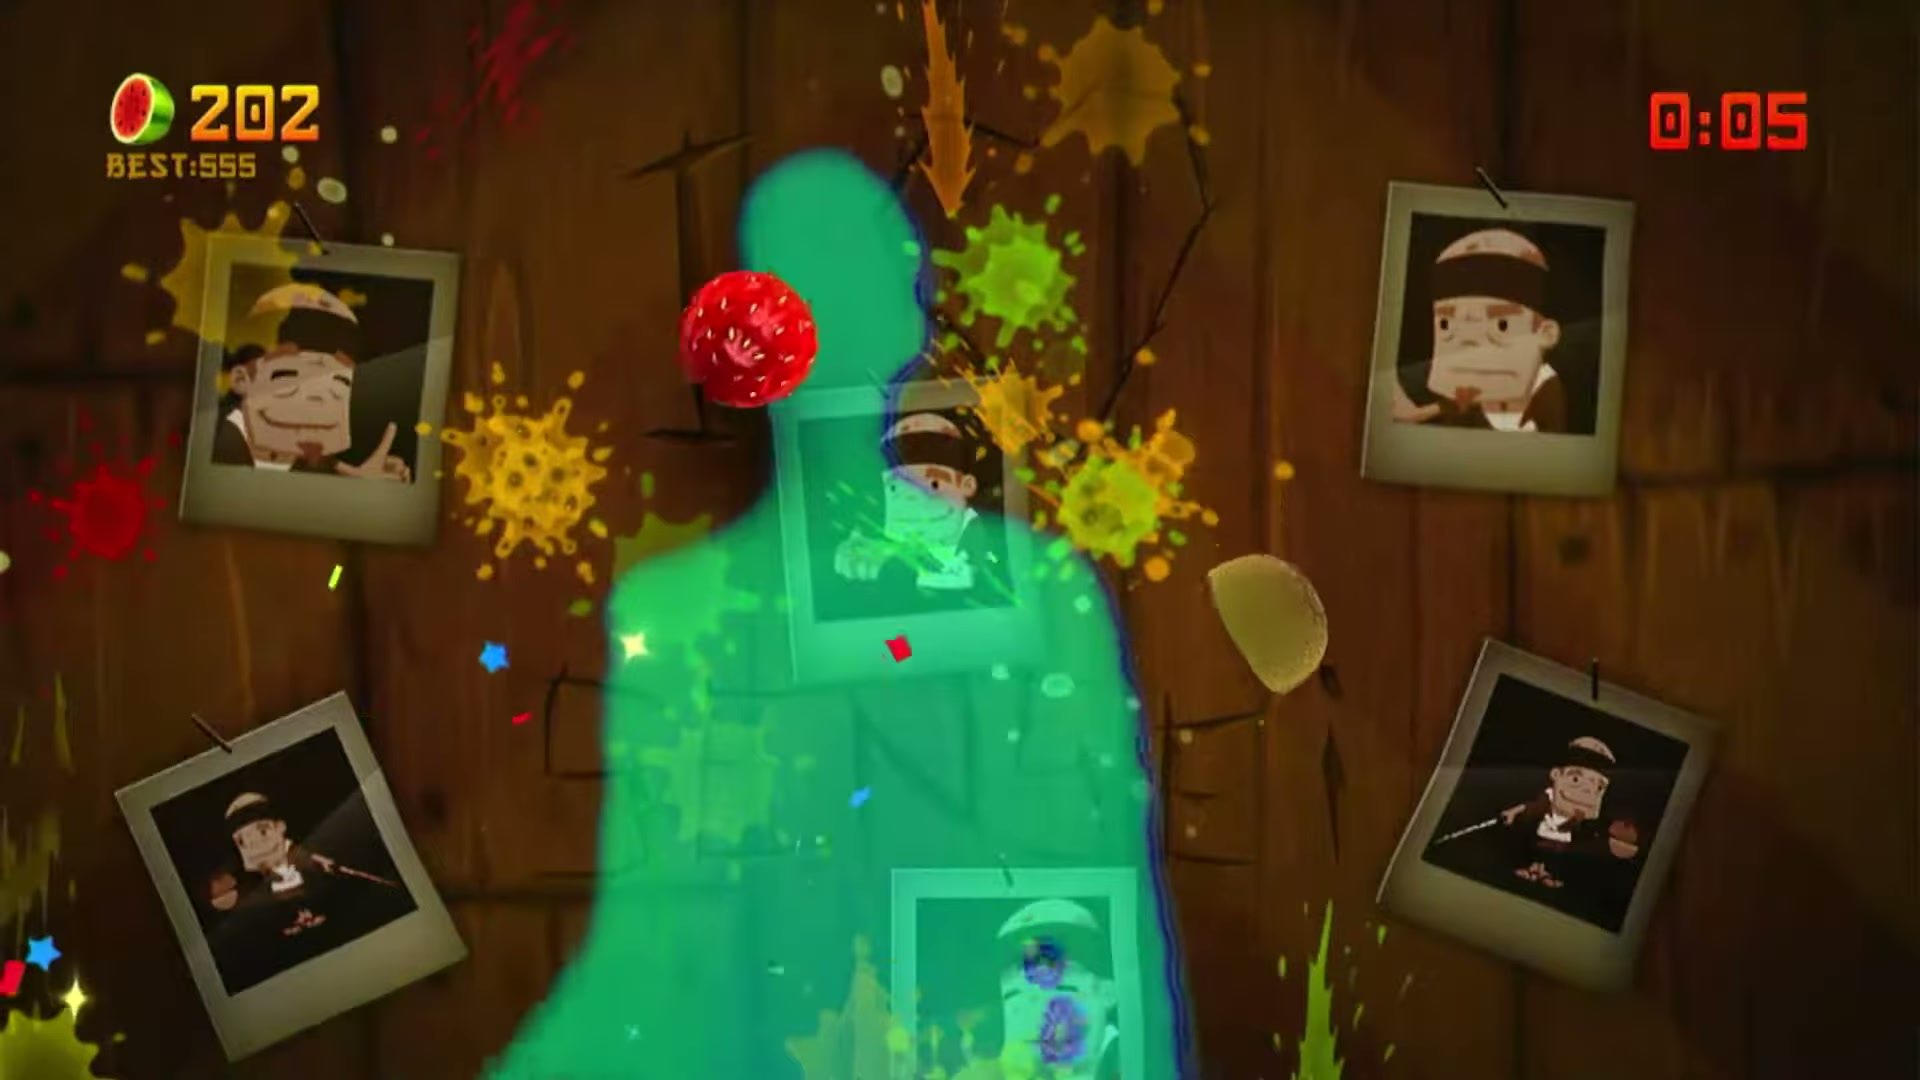fruit: (1200, 560, 1340, 760), (705, 299, 849, 480)
